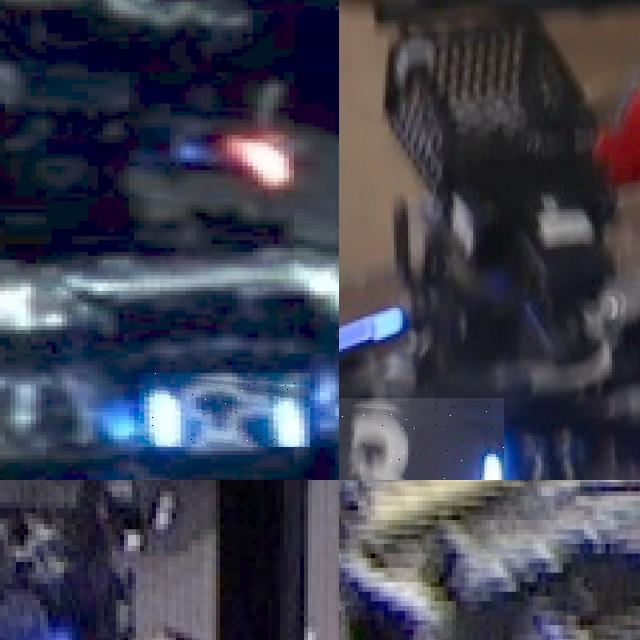B3: (339, 398, 504, 480)
Bs: (139, 373, 310, 447)
